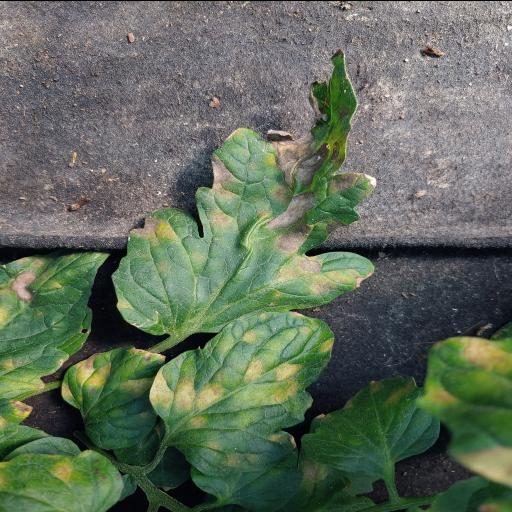Leaf Mold: (113, 51, 379, 328), (147, 310, 336, 473), (300, 375, 442, 495), (56, 346, 166, 450), (0, 447, 127, 512)
